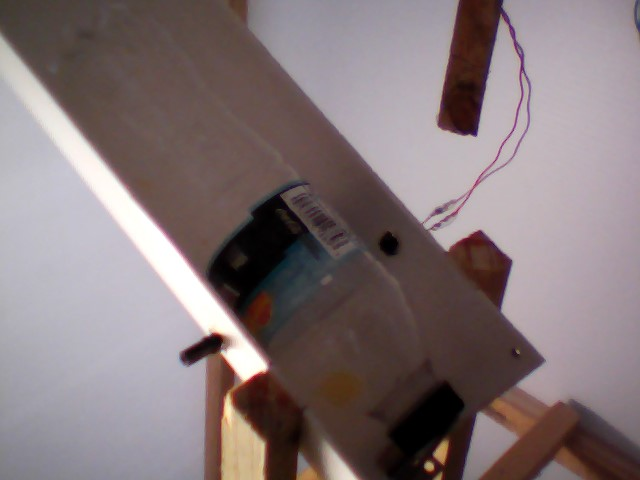plastico: (36, 1, 473, 456)
